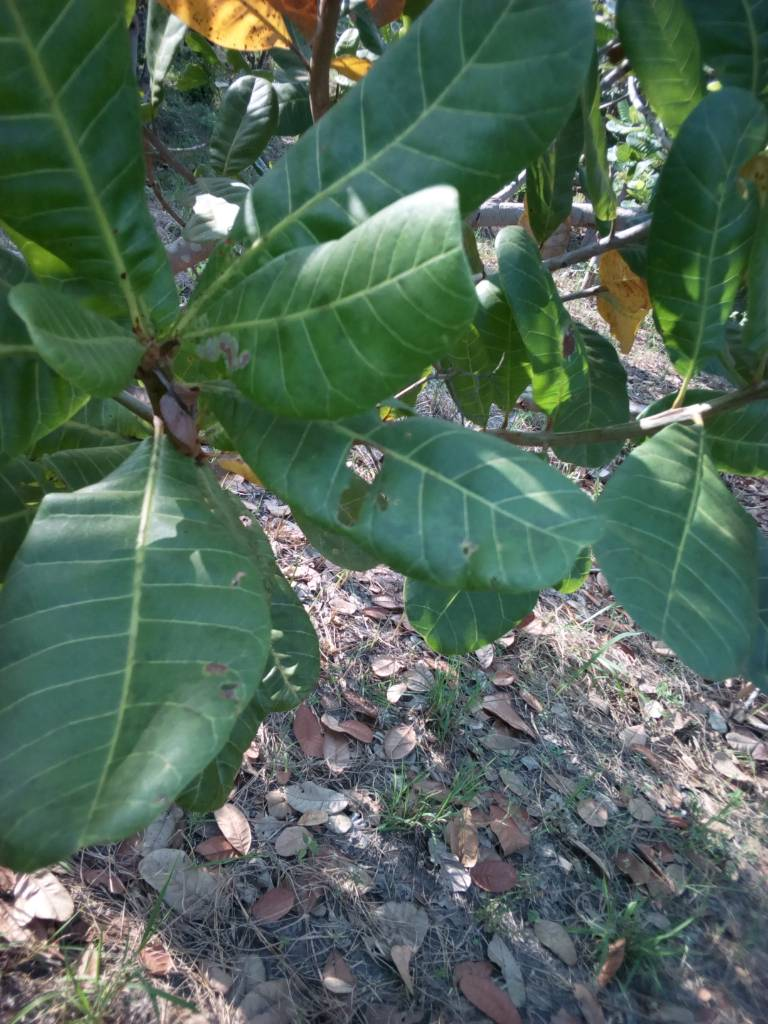Anoplonemis curvipes: (307, 430, 577, 582), (161, 497, 261, 739)
